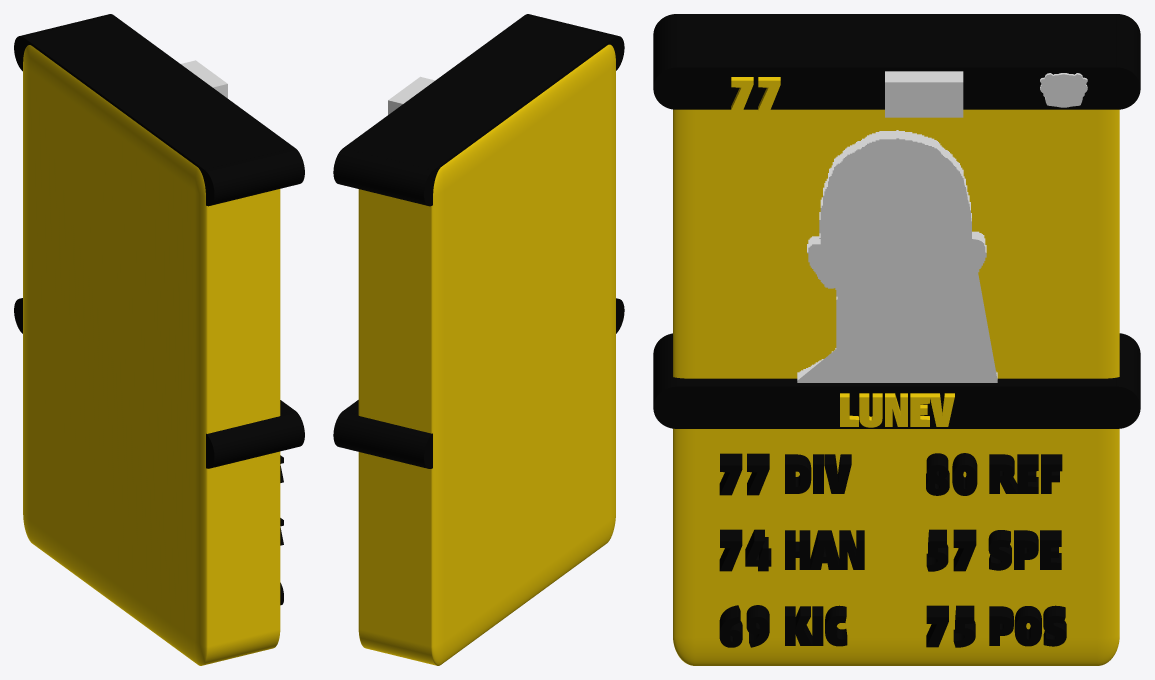
File: LUNEV.fbx
3 views of the same model, side by side, from view 1: azimuth 30°, elevation 25°; view 2: azimuth 150°, elevation 25°; view 3: azimuth 270°, elevation 25° (orthographic). The views are drawn at different scales.
Parts seen in each view (by area): view 1: Куб, Цилиндр.002, Цилиндр.001, Куб.001; view 2: Куб, Цилиндр.002, Цилиндр.001, Куб.001; view 3: Куб, Цилиндр.002, Плоскость, Цилиндр.001, Куб.001, Текст.006, Текст, Текст.005, Текст.003, Текст.004, Текст.001, Текст.002 (+8 smaller).
Boxes of the visible parts, x1,y1,x2,y2 form: Куб: (23,45,280,665); Цилиндр.002: (14,14,304,206); Цилиндр.001: (14,298,304,468); Куб.001: (181,60,227,98); Куб: (358,44,615,665); Цилиндр.002: (333,14,624,206); Цилиндр.001: (333,298,624,468); Куб.001: (388,76,435,114); Куб: (673,109,1119,665); Цилиндр.002: (653,14,1140,109); Плоскость: (797,130,997,382); Цилиндр.001: (653,333,1140,428); Куб.001: (885,71,963,117); Текст.006: (840,393,954,427); Текст: (785,530,864,569); Текст.005: (989,605,1066,646); Текст.003: (989,454,1062,493); Текст.004: (988,530,1061,570); Текст.001: (785,454,851,493); Текст.002: (785,605,847,646).
Size of the model in its own units: 280 by 1202 by 872.
